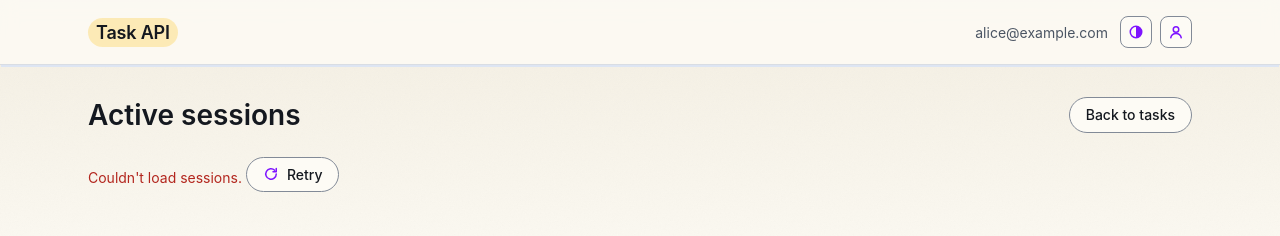
Test: SessionsPage › shows an error state and can retry on load failure
This screenshot has width=1280, height=236.
expect the message shows "Couldn't load sessions": met, box x1=88 y1=168 x2=246 y2=185
Click the button "Retry".
click(293, 174)  # box x1=246 y1=156 x2=340 y2=192
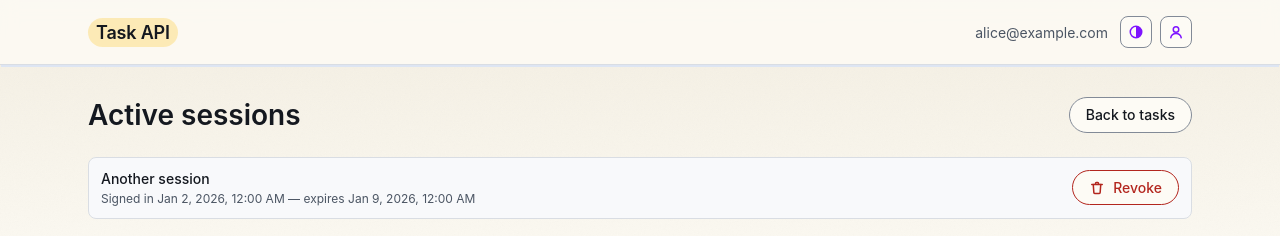
expect the text "Another session" is shown: met, box x1=101 y1=170 x2=210 y2=186
